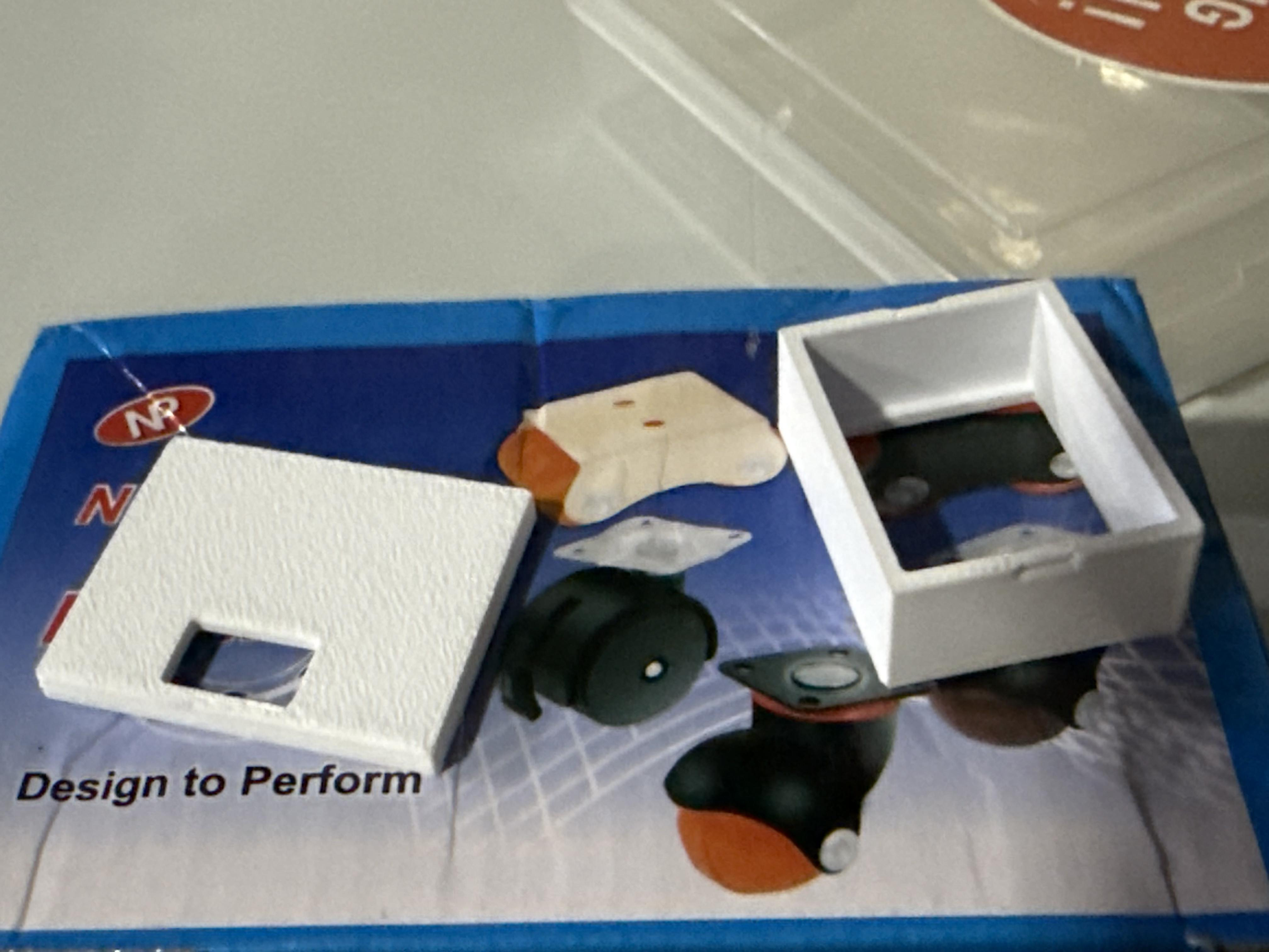enclosure: (25, 428, 541, 778), (776, 279, 1205, 693)
